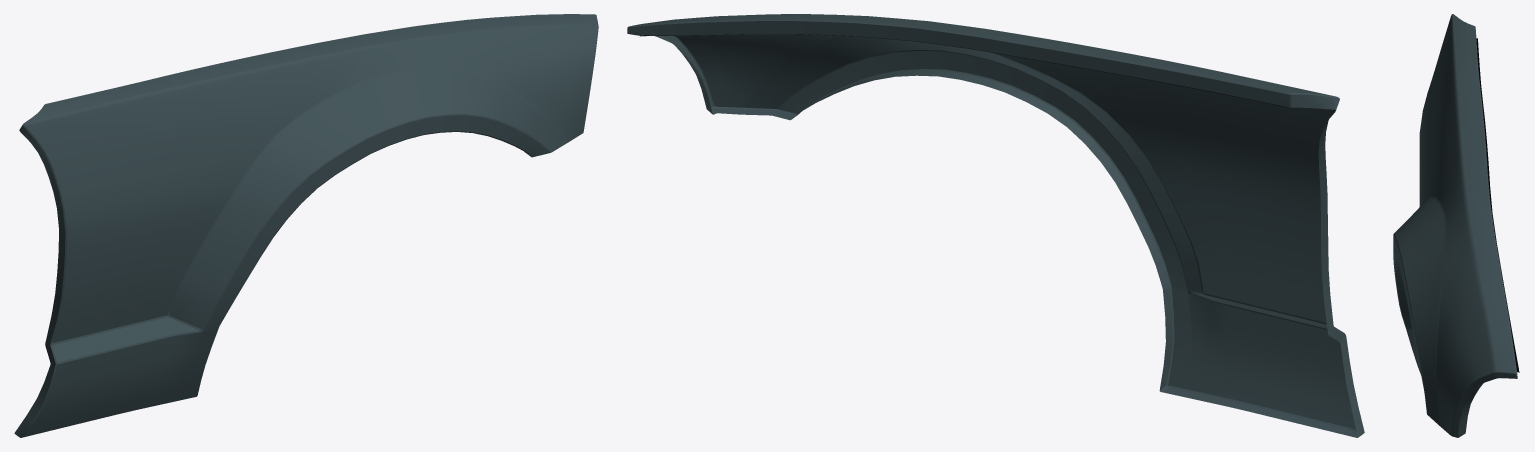
3 views of the same model, side by side, from view 1: azimuth 30°, elevation 25°; view 2: azimuth 150°, elevation 25°; view 3: azimuth 270°, elevation 25° (orthographic). The views are drawn at different scales.
Parts seen in each view (by area): view 1: P222_15_141B_R_1_DaS_P222_15_141B_R, P222_15_141B_R_1_DaS_P222_15_141B_R_E; view 2: P222_15_141B_R_1_DaS_P222_15_141B_R, P222_15_141B_R_1_DaS_P222_15_141B_R_E; view 3: P222_15_141B_R_1_DaS_P222_15_141B_R, P222_15_141B_R_1_DaS_P222_15_141B_R_E, P222_15_141B_R_P222_15_141B_R_2_D.
Part boxes in pixels (box(x1,y1,x2,y2)): P222_15_141B_R_1_DaS_P222_15_141B_R: box(14, 14, 598, 437); P222_15_141B_R_1_DaS_P222_15_141B_R_E: box(20, 14, 594, 437); P222_15_141B_R_1_DaS_P222_15_141B_R: box(627, 14, 1364, 437); P222_15_141B_R_1_DaS_P222_15_141B_R_E: box(628, 19, 1356, 431); P222_15_141B_R_1_DaS_P222_15_141B_R: box(1393, 14, 1517, 437); P222_15_141B_R_1_DaS_P222_15_141B_R_E: box(1393, 14, 1517, 437); P222_15_141B_R_P222_15_141B_R_2_D: box(1476, 38, 1519, 372).
Bounding box in the file's own units: 146 × 69.71 × 25.75.
